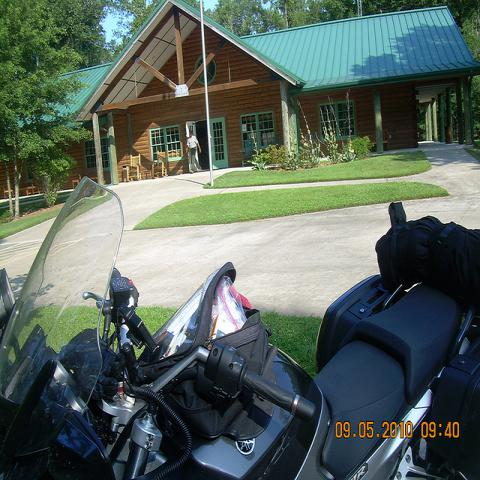motorcycle: (0, 175, 479, 475)
